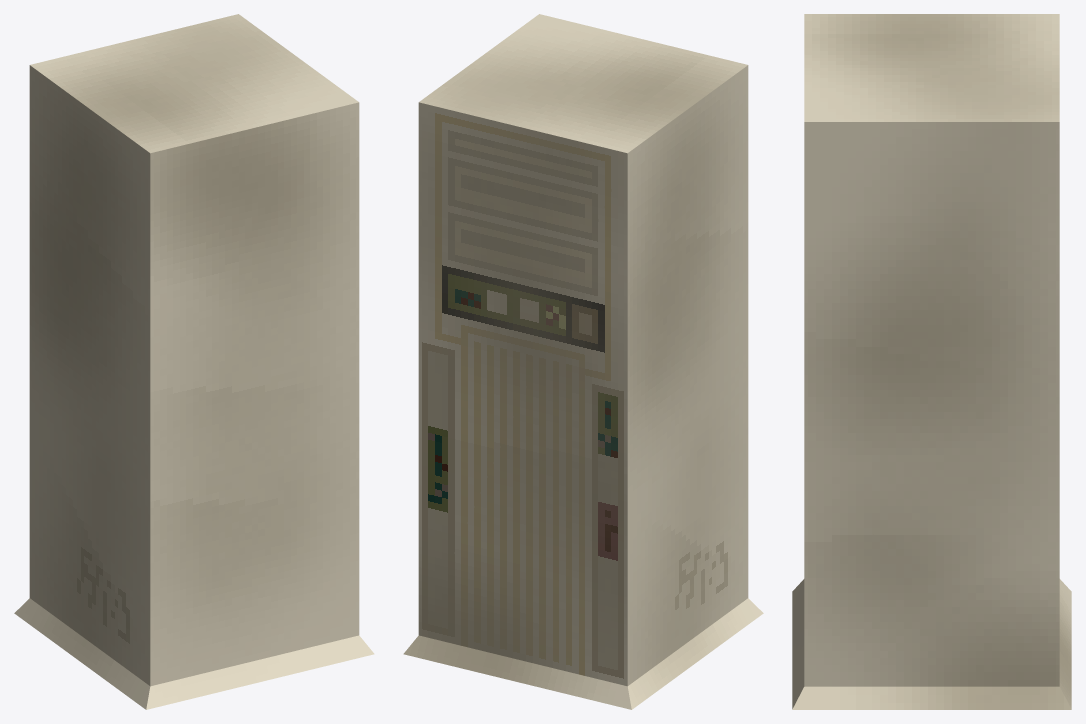
File: server.gltf
3 views of the same model, side by side, from view 1: azimuth 30°, elevation 25°; view 2: azimuth 150°, elevation 25°; view 3: azimuth 270°, elevation 25° (orthographic). The views are drawn at different scales.
Visible parts, largest first — view 1: cuboid; view 2: cuboid; view 3: cuboid.
Part boxes in pixels (<box>): cuboid: <box>14,14,374,709</box>; cuboid: <box>403,14,763,709</box>; cuboid: <box>792,14,1071,709</box>.
Size of the model in its own units: 1.09 by 2.52 by 1.09.
Materials: 1 (1 with a texture image).
